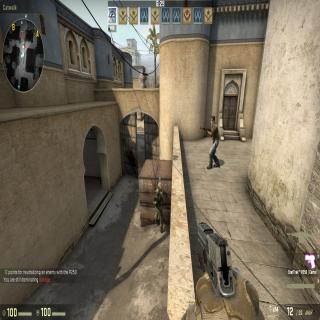CT-Body: (155, 181, 164, 232)
CT-Head: (157, 181, 163, 192)
T-Body: (207, 115, 219, 169)
T-Head: (210, 115, 217, 126)
